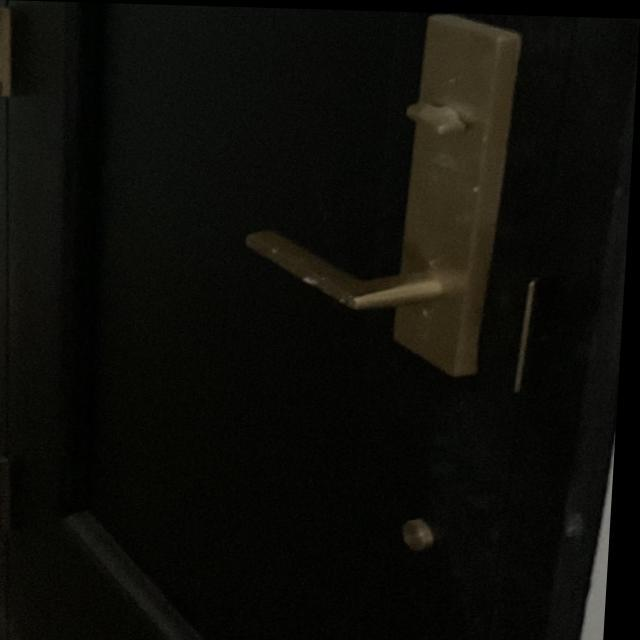door_handle: (221, 203, 553, 377)
